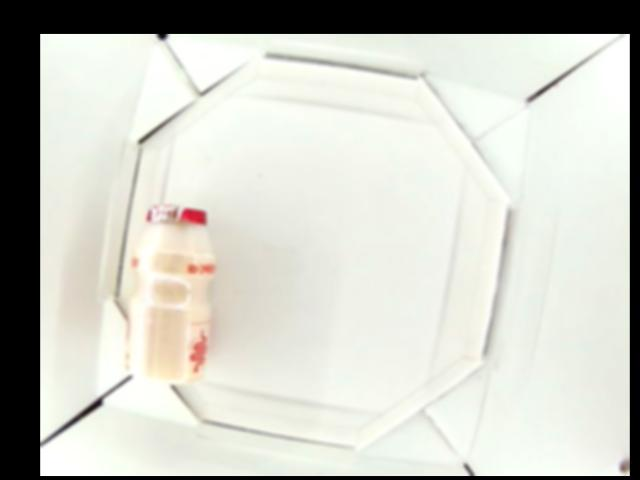Bottle: (124, 206, 217, 382)
